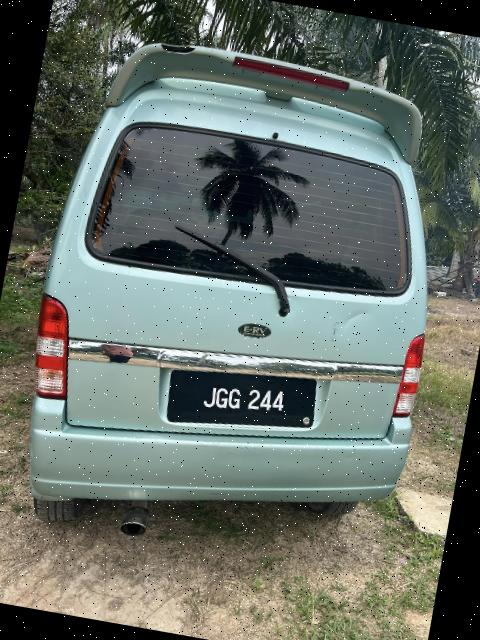License_Plate: (189, 371, 313, 432)
van: (1, 13, 479, 585)
